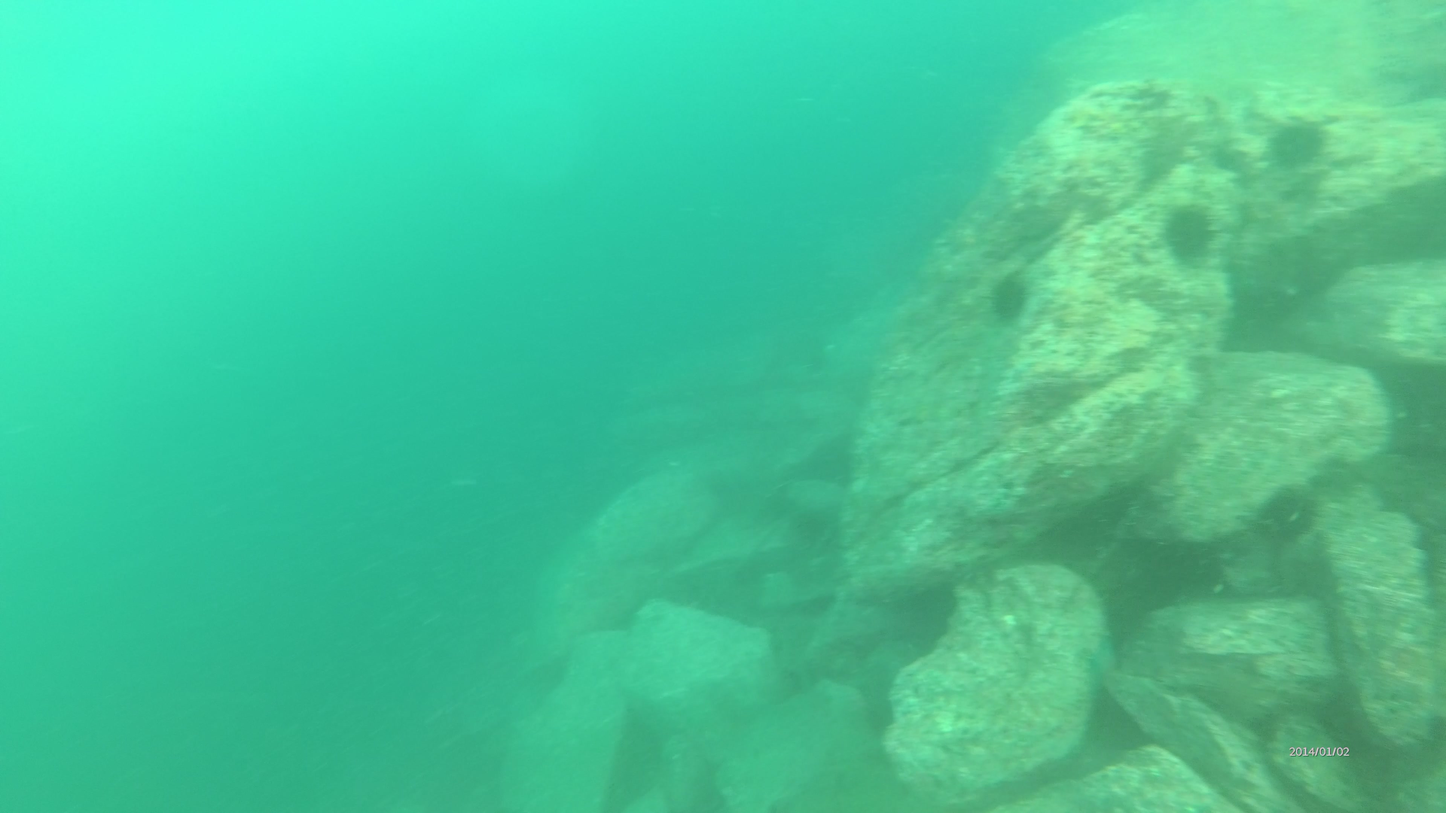starfish: (1252, 481, 1326, 551), (1163, 202, 1224, 263), (1269, 115, 1332, 174), (986, 276, 1031, 325)
